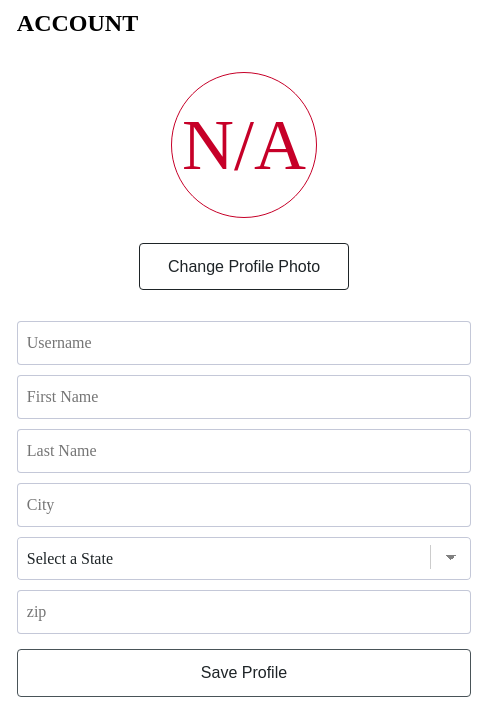
Test case: AccountProfileForm › should not submit without a username
This screenshot has width=489, height=702.
Clear the field labelled "Username": point(244, 343) [17, 321, 471, 365]
Clear the field labelled "First Name": point(244, 397) [17, 375, 471, 419]
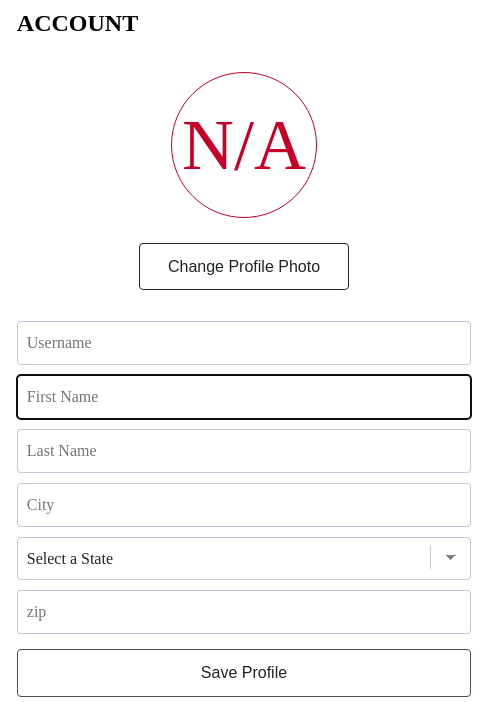
Clear the field labelled "Last Name": point(244, 451) [17, 429, 471, 473]
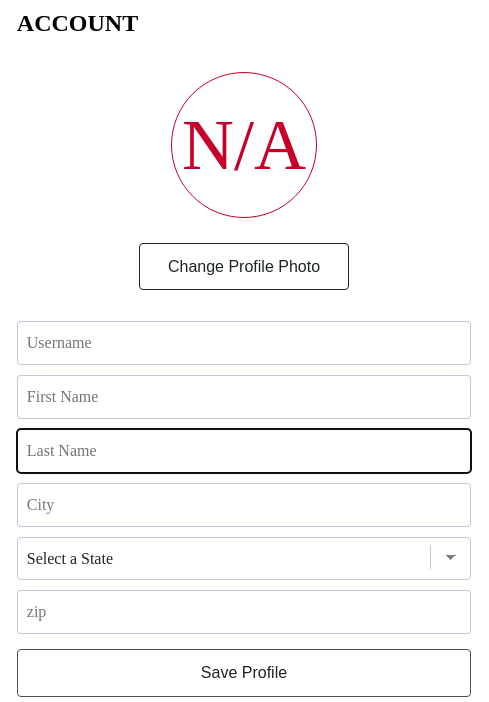
In the field labelled "City": point(244, 505) [17, 483, 471, 527], type "A"
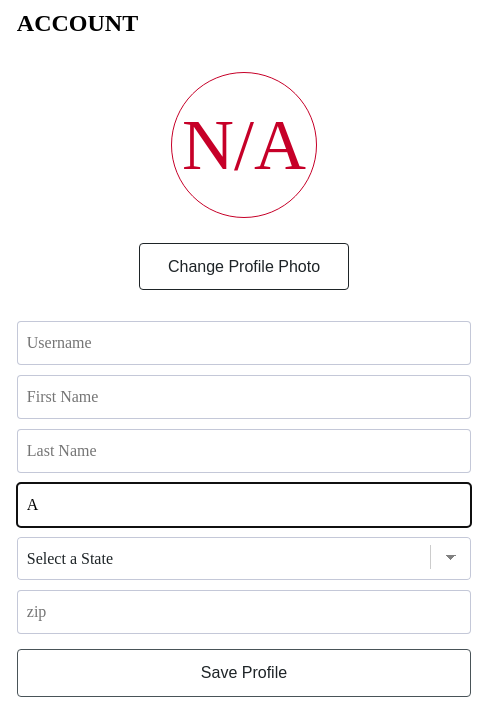
Clear the field labelled "zip": point(244, 612) [17, 590, 471, 634]
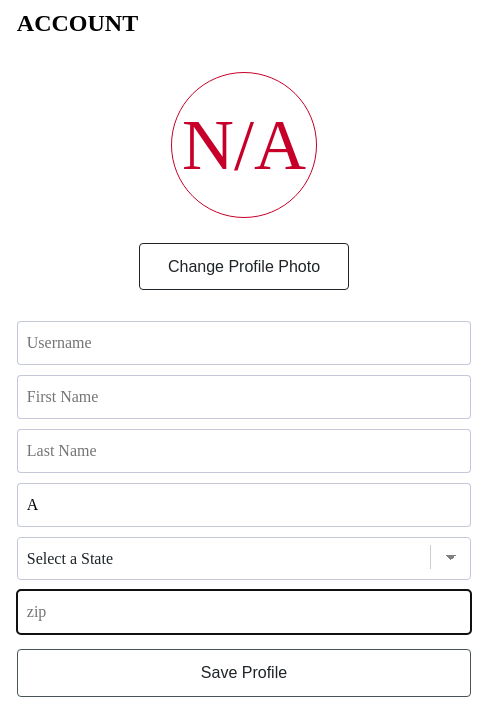
Select "Select a State" in the dropdown with test id "state": point(244, 558) [17, 537, 471, 580]
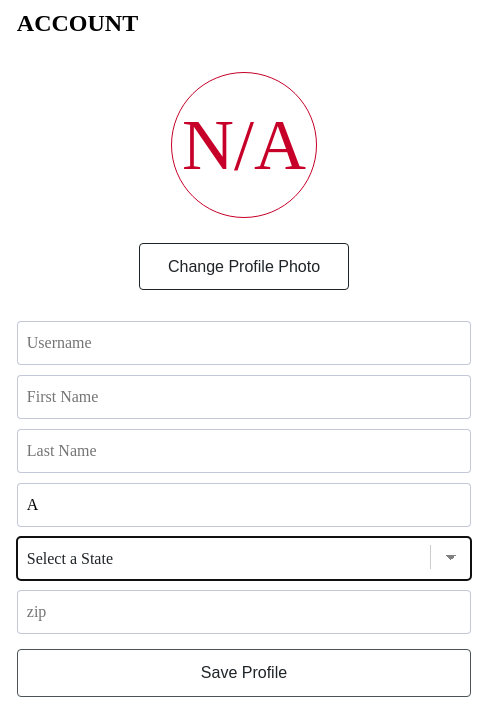
Click the button: point(244, 673) [17, 649, 471, 697]
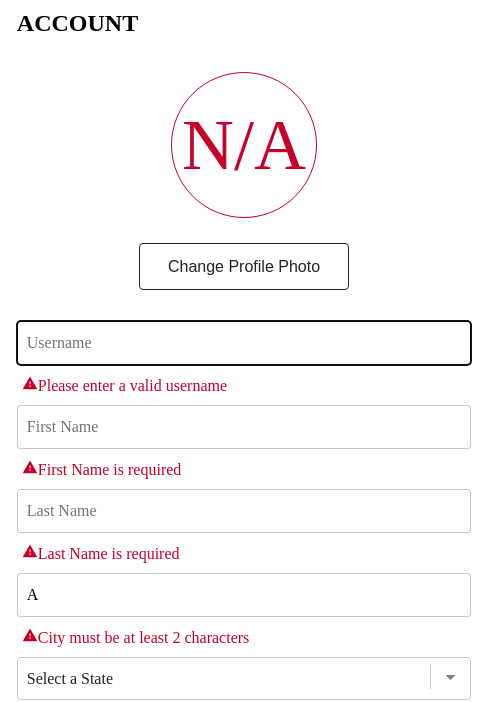
Result: the number of messages is 6
